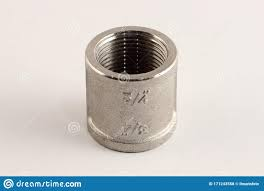Thread: (90, 27, 179, 84)
